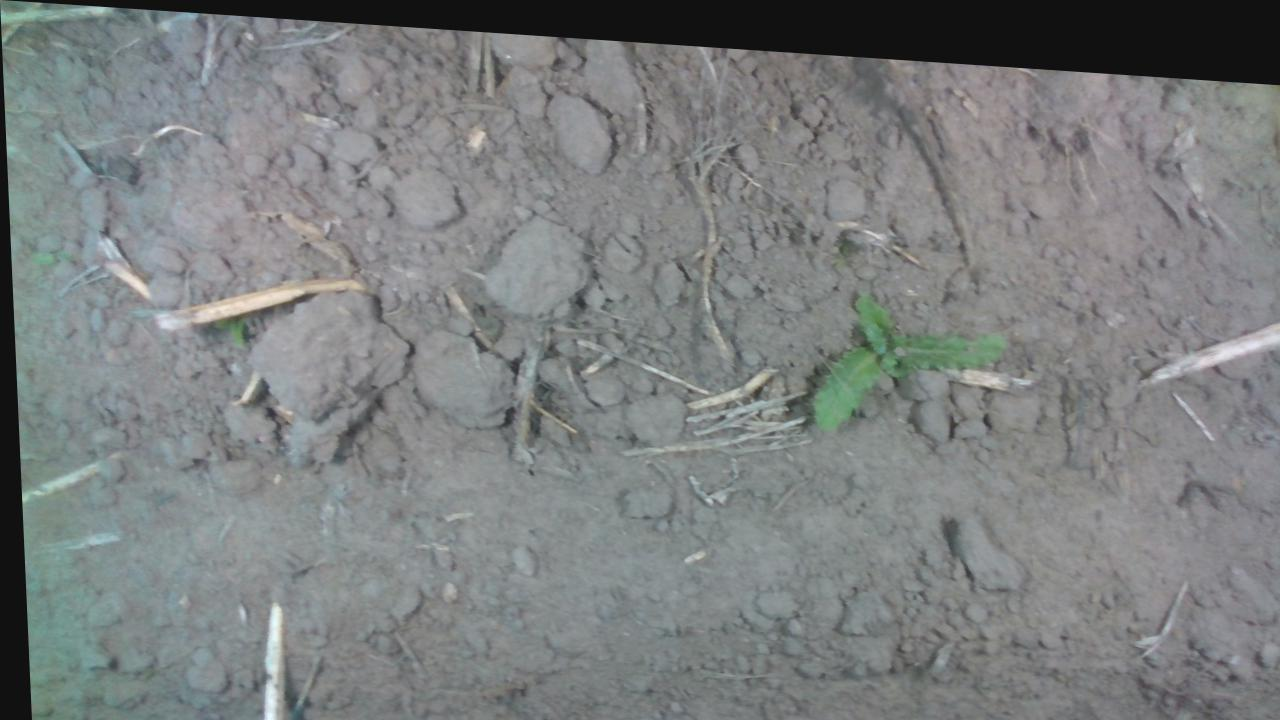weed: (801, 275, 1011, 430)
